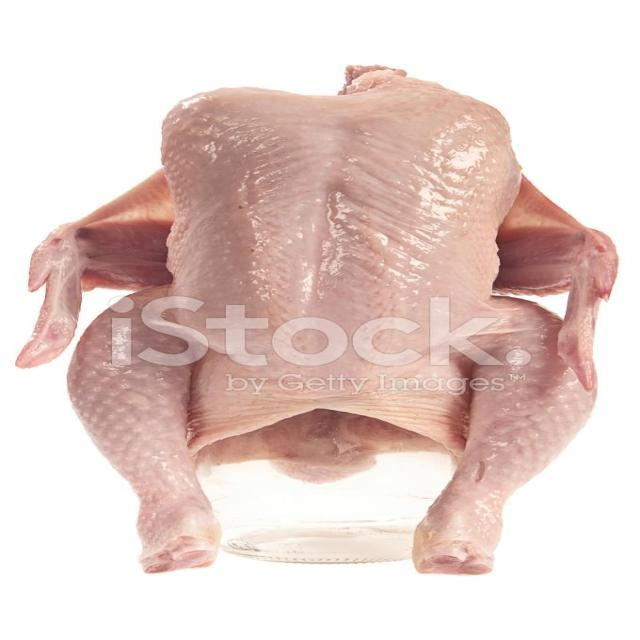Chicken: (0, 50, 640, 594)
